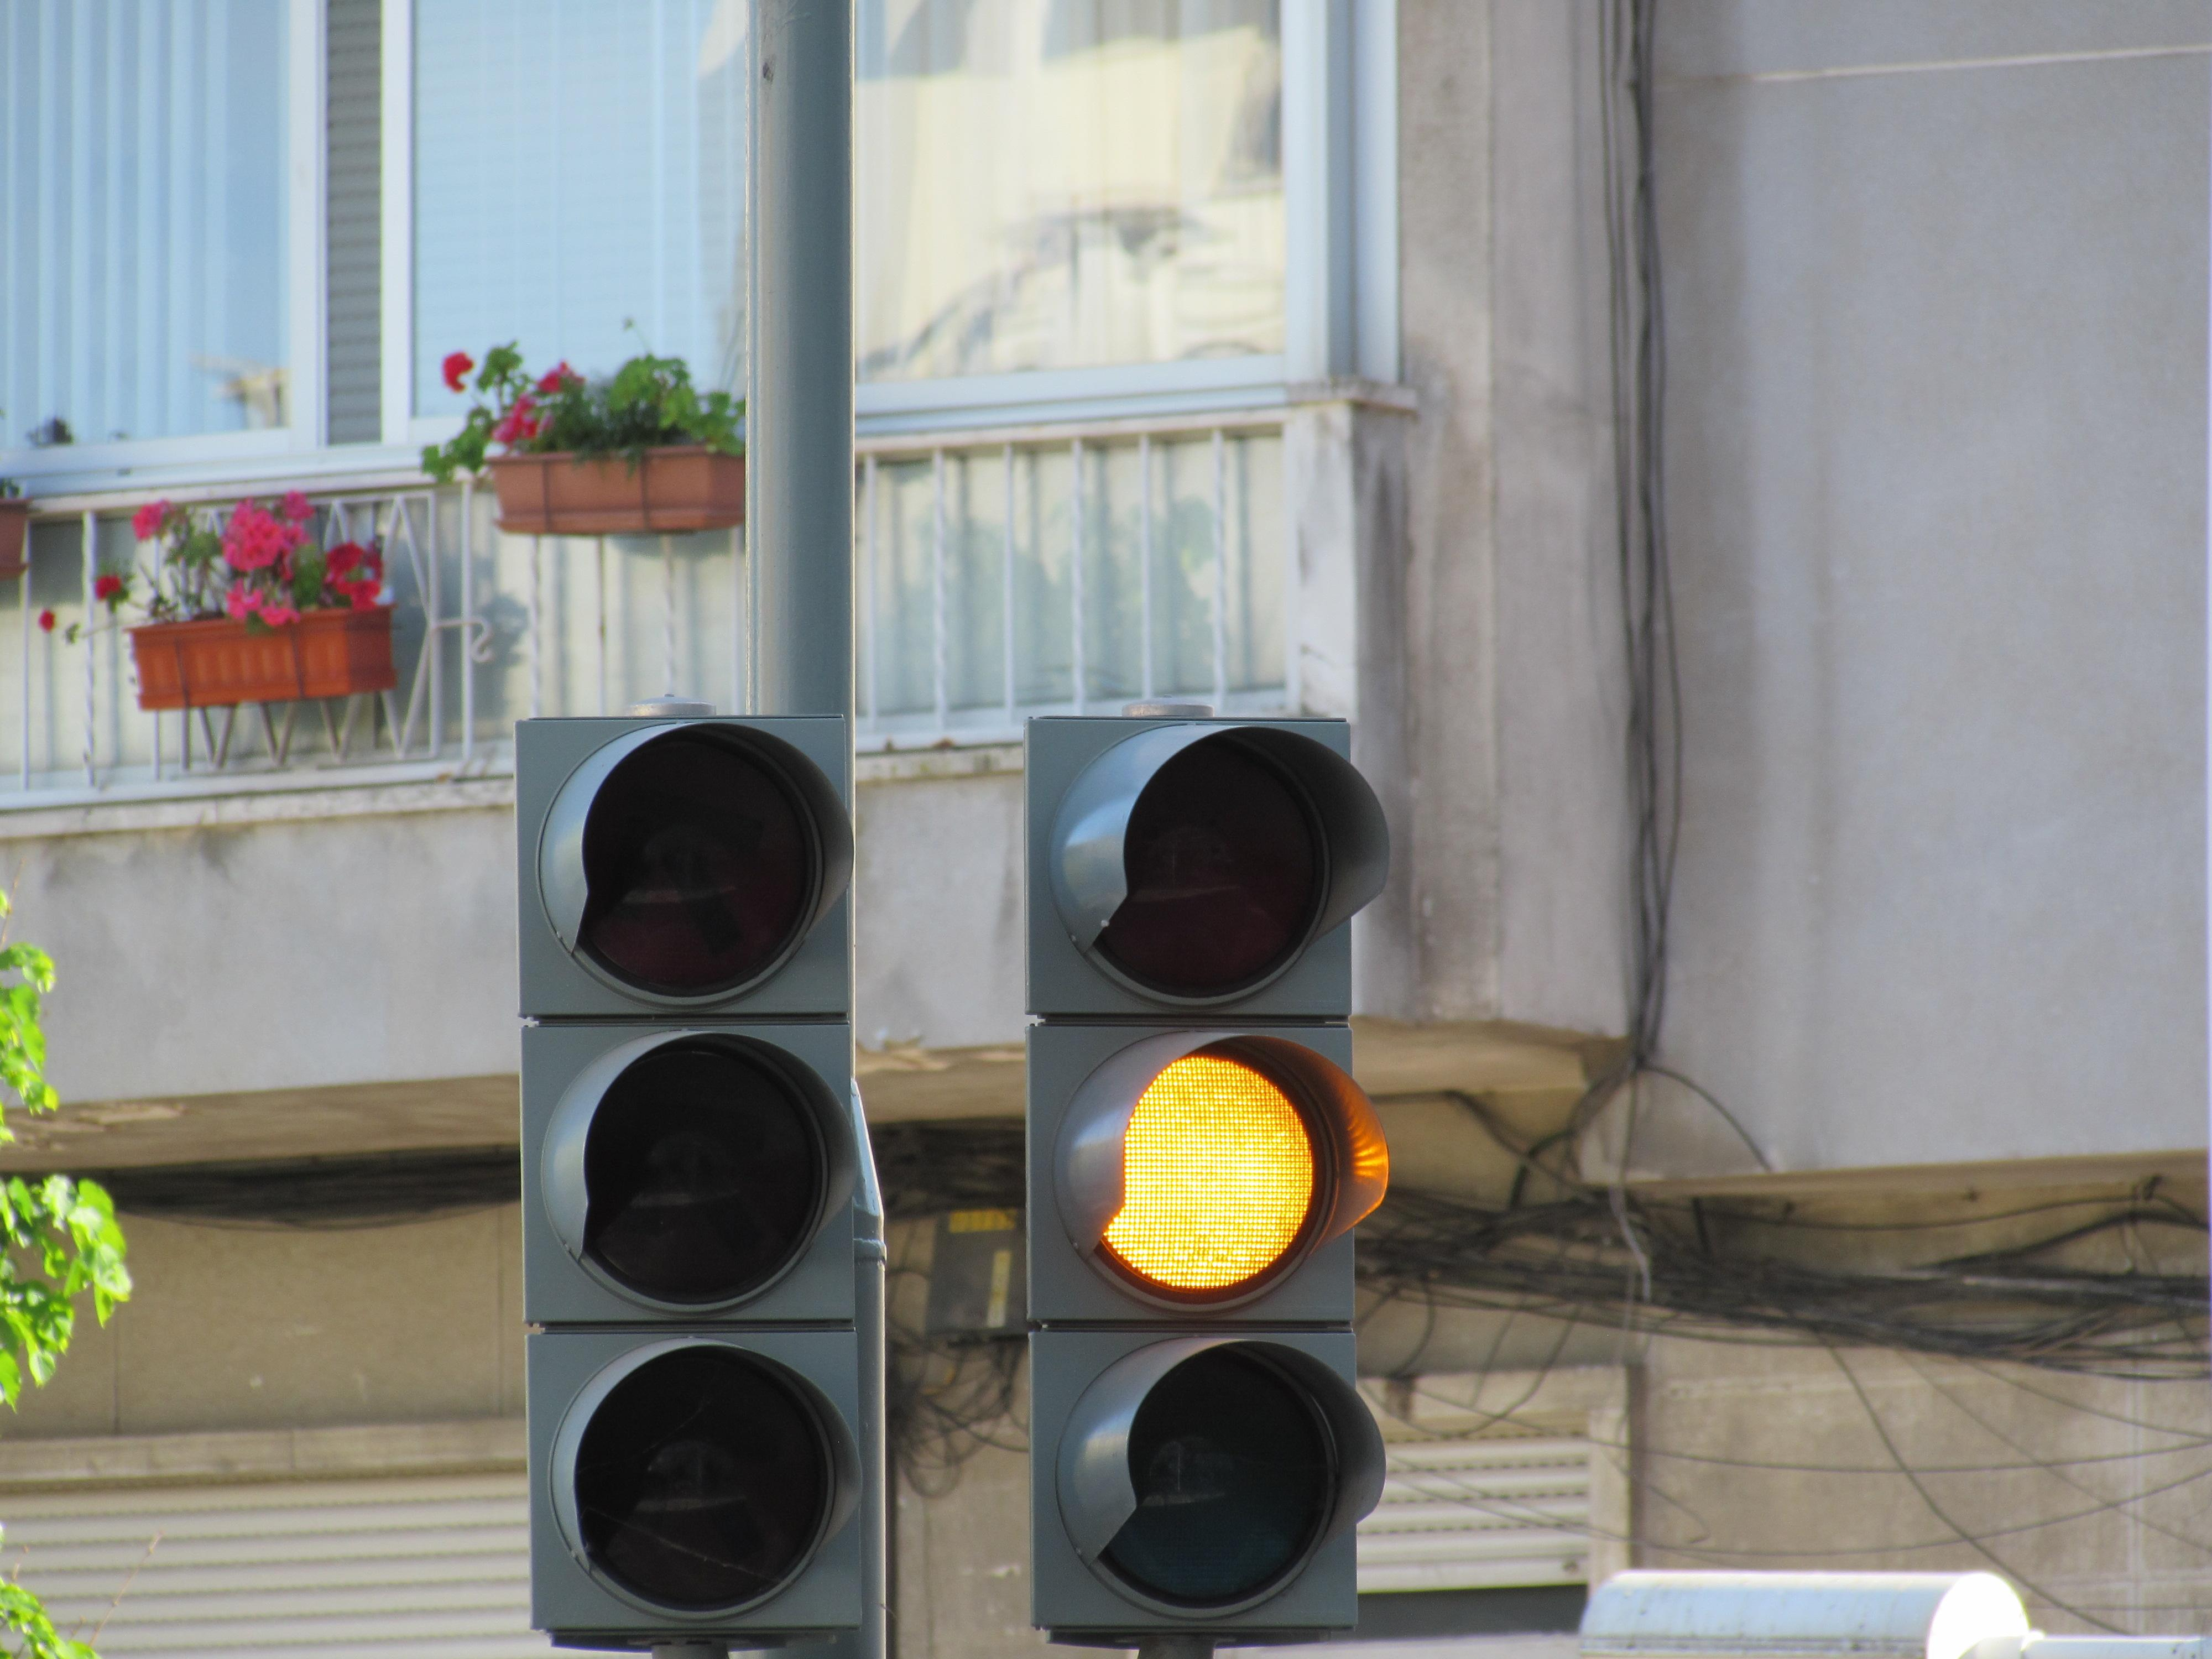yellow_light: (1022, 714, 1388, 1629)
